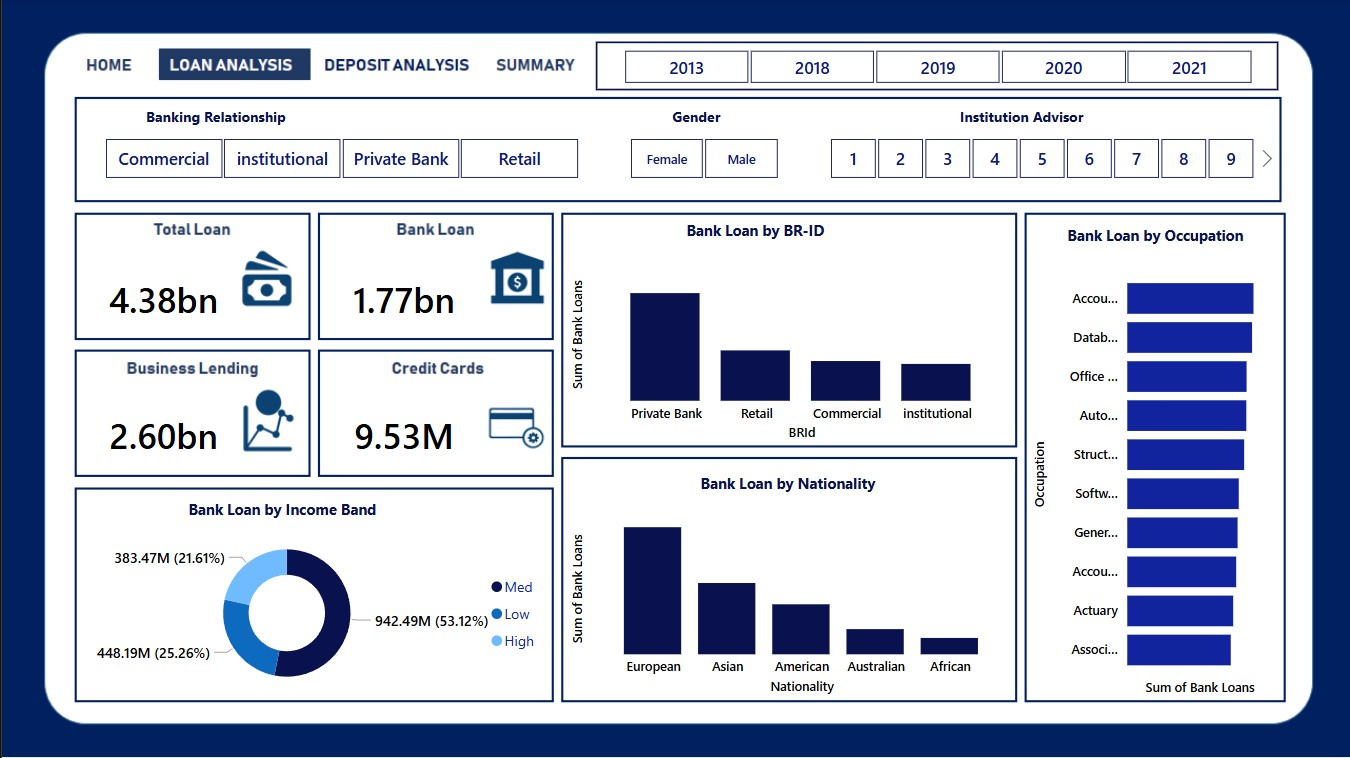

What the dashboard file says about the page in this screenshot:
{"tool":"powerbi","page":{"name":"Loan analysis","canvas":[1280,720],"ordinal":1},"visuals":[{"type":"actionButton","box":[60.4,46.7,83.7,31.6],"z":0},{"type":"actionButton","box":[300.5,46.7,153.7,31.6],"z":1000},{"type":"actionButton","box":[454.2,46.7,100.2,31.6],"z":2000},{"type":"slicer","fields":{"Values":["banking_case customer.join of year"]},"box":[564,39.8,647.7,46.7],"z":3000},{"type":"card","fields":{"Values":["banking_case customer.Total loan"]},"box":[83.7,255.2,138.6,60.4],"z":4000},{"type":"card","fields":{"Values":["Sum(banking_case customer.Bank Loans)"]},"box":[310.1,255.2,144.1,60.4],"z":5000},{"type":"card","fields":{"Values":["Sum(banking_case customer.Business Lending)"]},"box":[83.7,384.2,138.6,60.4],"z":6000},{"type":"card","fields":{"Values":["Sum(banking_case customer.Credit Card Balance)"]},"box":[310.1,384.2,144.1,60.4],"z":7000},{"type":"textbox","box":[153.7,469.3,223.7,31.6],"z":8000},{"type":"donutChart","fields":{"Category":["banking_case customer.income band"],"Y":["Sum(banking_case customer.Bank Loans)"]},"box":[72.7,500.9,447.3,164.7],"z":9000},{"type":"textbox","box":[639.5,205.8,150.9,35.7],"z":10000},{"type":"textbox","box":[639.5,444.6,212.7,39.8],"z":11000},{"type":"textbox","box":[992.1,209.9,205.8,31.6],"z":12000},{"type":"clusteredColumnChart","fields":{"Category":["banking_case customer.BRId"],"Y":["Sum(banking_case customer.Bank Loans)"]},"box":[536.5,241.5,425.4,182.5],"z":13000},{"type":"clusteredColumnChart","fields":{"Category":["banking_case customer.Nationality"],"Y":["Sum(banking_case customer.Bank Loans)"]},"box":[536.5,484.4,425.4,181.1],"z":14000},{"type":"clusteredBarChart","fields":{"Category":["banking_case customer.Occupation"],"Y":["Sum(banking_case customer.Bank Loans)"]},"box":[975.6,241.5,236,424],"z":15000},{"type":"slicer","fields":{"Values":["banking_case customer.BRId"]},"box":[72.7,126.2,498.1,50.8],"z":16000},{"type":"slicer","fields":{"Values":["banking_case customer.GenderId"]},"box":[570.8,126.2,189.4,50.8],"z":17000},{"type":"slicer","fields":{"Values":["banking_case customer.IAId"]},"box":[760.2,126.2,451.5,50.8],"z":18000},{"type":"textbox","box":[131.7,97.4,164.7,28.8],"z":19000},{"type":"textbox","box":[631.2,97.4,83.7,28.8],"z":20000},{"type":"textbox","box":[904.3,97.4,142.7,28.8],"z":21000}]}

Visuals, with their boxes in screenshot pixels (x1, y1, x2, y2), scaled from the page's 1280x720 canvas onto the 1350x758 screenshot:
actionButton: rect(64, 49, 152, 82)
actionButton: rect(317, 49, 479, 82)
actionButton: rect(479, 49, 585, 82)
slicer - banking_case customer.join of year: rect(595, 42, 1278, 91)
card - banking_case customer.Total loan: rect(88, 269, 234, 332)
card - Sum(banking_case customer.Bank Loans): rect(327, 269, 479, 332)
card - Sum(banking_case customer.Business Lending): rect(88, 404, 234, 468)
card - Sum(banking_case customer.Credit Card Balance): rect(327, 404, 479, 468)
textbox: rect(162, 494, 398, 527)
donutChart - banking_case customer.income band x Sum(banking_case customer.Bank Loans): rect(77, 527, 548, 701)
textbox: rect(674, 217, 834, 254)
textbox: rect(674, 468, 899, 510)
textbox: rect(1046, 221, 1263, 254)
clusteredColumnChart - banking_case customer.BRId x Sum(banking_case customer.Bank Loans): rect(566, 254, 1015, 446)
clusteredColumnChart - banking_case customer.Nationality x Sum(banking_case customer.Bank Loans): rect(566, 510, 1015, 701)
clusteredBarChart - banking_case customer.Occupation x Sum(banking_case customer.Bank Loans): rect(1029, 254, 1278, 701)
slicer - banking_case customer.BRId: rect(77, 133, 602, 186)
slicer - banking_case customer.GenderId: rect(602, 133, 802, 186)
slicer - banking_case customer.IAId: rect(802, 133, 1278, 186)
textbox: rect(139, 103, 313, 133)
textbox: rect(666, 103, 754, 133)
textbox: rect(954, 103, 1104, 133)
